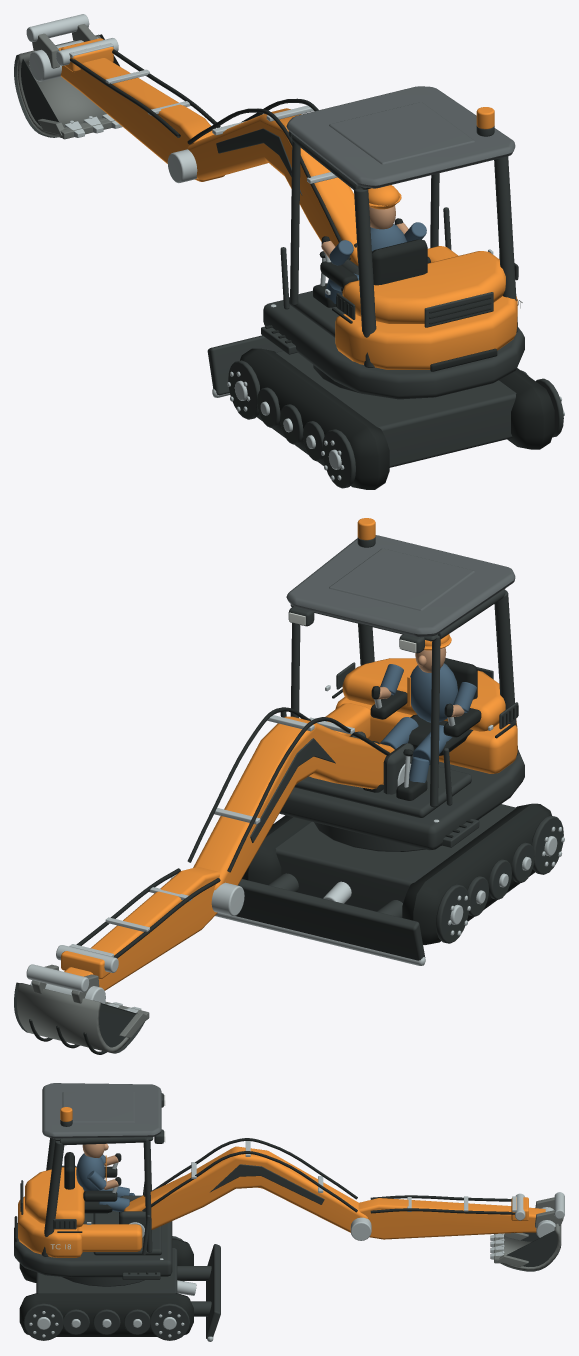
File: mini-excavator.glb
3 views of the same model, one above another, from view 1: azimuth 30°, elevation 25°; view 2: azimuth 150°, elevation 25°; view 3: azimuth 270°, elevation 25° (orthographic). The views are drawn at different scales.
Visible parts, largest first — view 1: UpperShell, ExcavatorShell, BoomShell, StickShell, BucketShell, InteriorShell; view 2: UpperShell, ExcavatorShell, BoomShell, StickShell, InteriorShell, BucketShell; view 3: UpperShell, ExcavatorShell, BoomShell, StickShell, BucketShell, InteriorShell.
Part boxes in pixels (x1,y1,x2,y2): UpperShell: [261, 86, 524, 399]; ExcavatorShell: [207, 335, 564, 489]; BoomShell: [187, 98, 358, 265]; StickShell: [56, 38, 224, 183]; BucketShell: [14, 14, 122, 139]; InteriorShell: [313, 185, 430, 307]; UpperShell: [279, 518, 524, 850]; ExcavatorShell: [215, 803, 564, 965]; BoomShell: [187, 707, 411, 890]; StickShell: [56, 867, 244, 990]; InteriorShell: [363, 634, 481, 800]; BucketShell: [14, 964, 149, 1054]; UpperShell: [14, 1083, 172, 1279]; ExcavatorShell: [19, 1236, 220, 1341]; BoomShell: [124, 1138, 367, 1237]; StickShell: [350, 1193, 545, 1240]; BucketShell: [490, 1192, 564, 1271]; InteriorShell: [64, 1143, 145, 1213].
Bounding box in the file's own units: 2.14 × 3.01 × 6.82.
